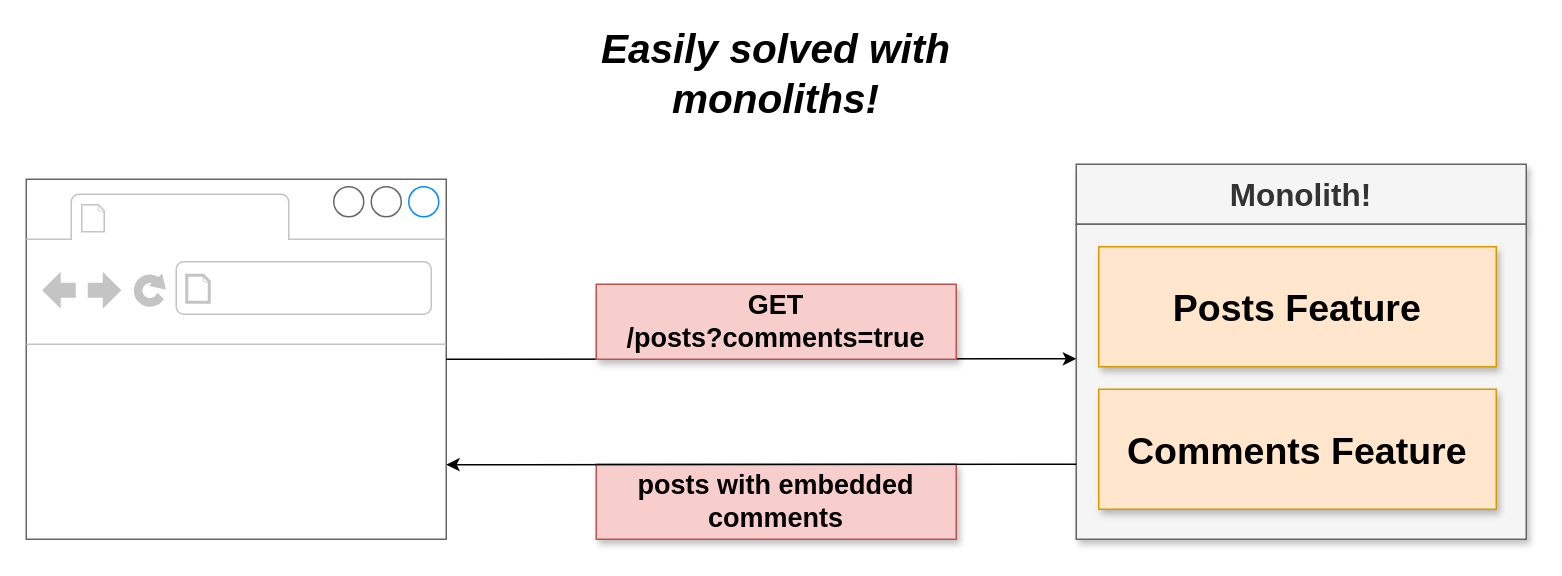
The diagram is 1562 pixels wide and 576 high, and some of its shapes have lost their labels. The shapes that lost their labels are listed below. From the top down, each one's centre as x and y in pixels, then its label:
pixel 198 216: Page 1
pixel 408 288: localhost
